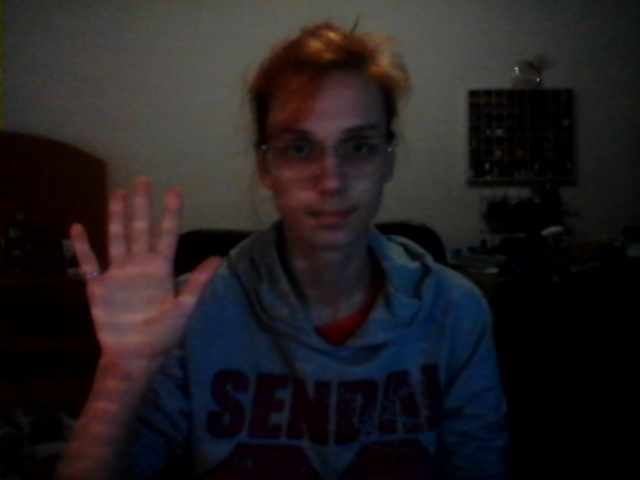ahoj: (58, 175, 226, 364)
